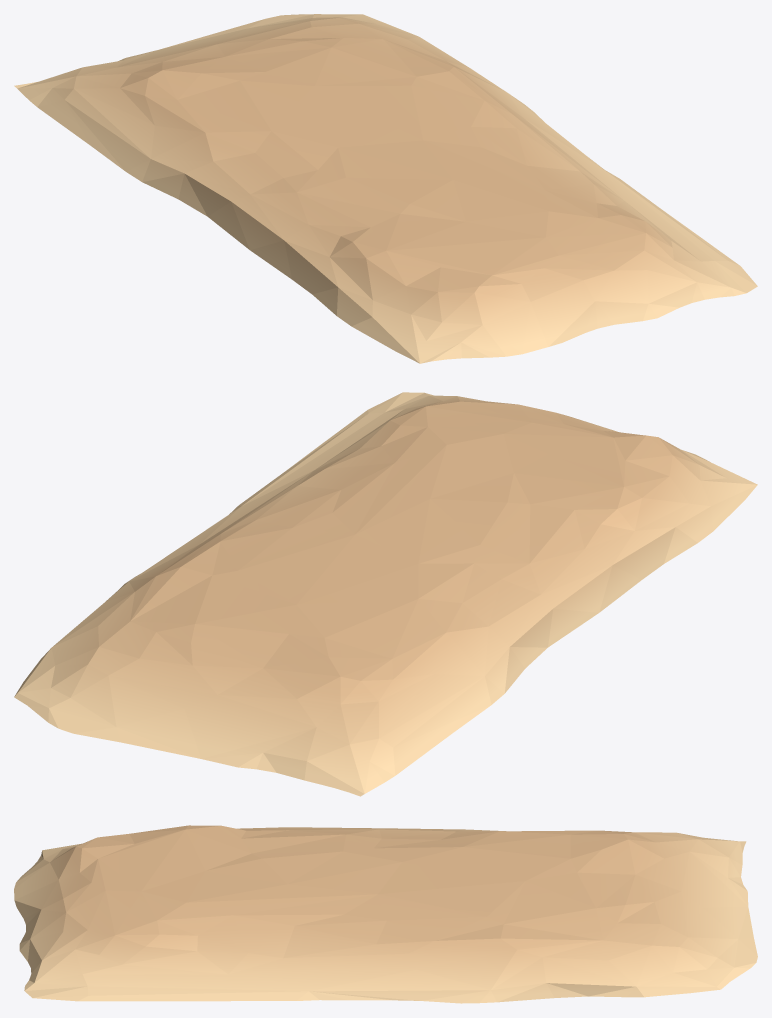
File: Ground 7 M V01.glb
3 renders of one model, top to bottom at view 1: azimuth 30°, elevation 25°; view 2: azimuth 150°, elevation 25°; view 3: azimuth 270°, elevation 25°, orthographic. The views are drawn at different scales.
Parts seen in each view (by area): view 1: Ground 7 M v01; view 2: Ground 7 M v01; view 3: Ground 7 M v01.
Part boxes in pixels (<box>): Ground 7 M v01: <box>14,14,757,363</box>; Ground 7 M v01: <box>14,392,757,796</box>; Ground 7 M v01: <box>14,825,757,1003</box>.
Size of what is drawn, in the model's own units: 3.7 by 0.4332 by 7.1.
Materials: 1 (1 with a texture image).
